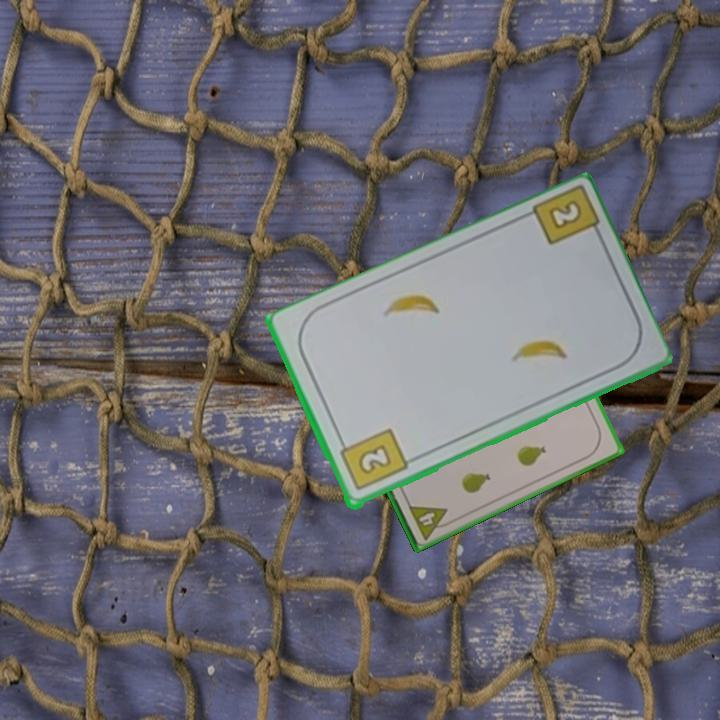2b: (335, 425, 411, 494), (544, 196, 585, 233)
4p: (405, 501, 455, 543)
